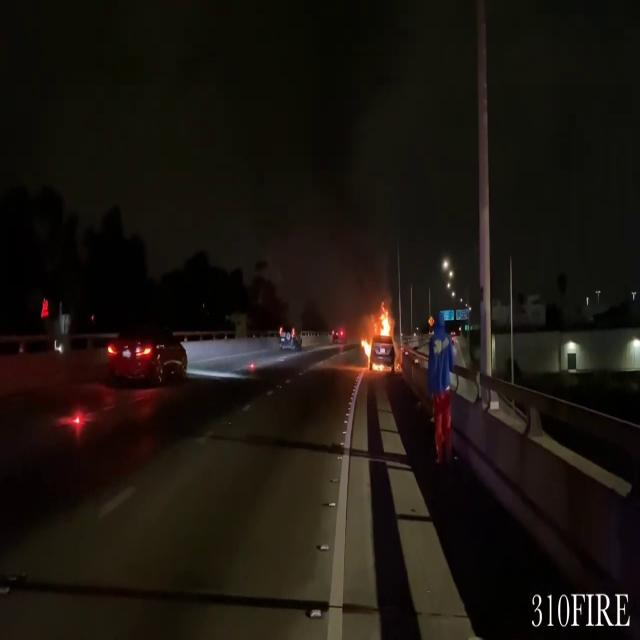Fire: (359, 304, 393, 373)
